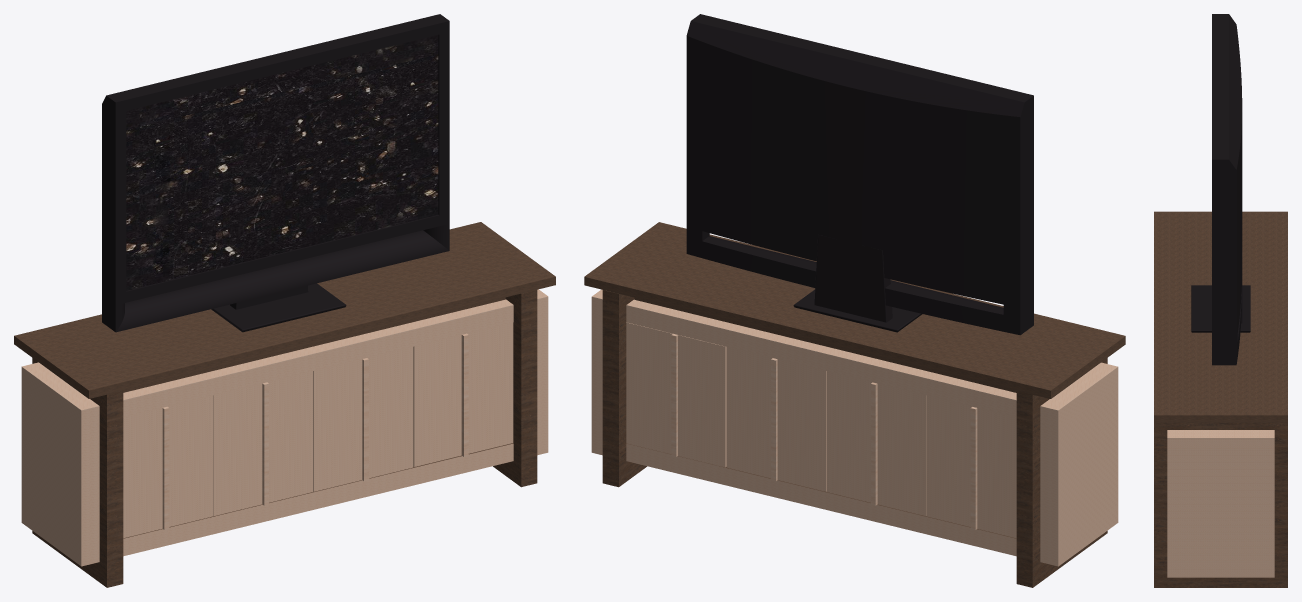
Rendered from entertainment stand.obj.
3 renders of one model, left to right at view 1: azimuth 30°, elevation 25°; view 2: azimuth 150°, elevation 25°; view 3: azimuth 270°, elevation 25°, orthographic. The views are drawn at different scales.
Parts seen in each view (by area): view 1: StandMiddle_HDTV_Entertainment_Center.001, Screen_HDTV_Entertainment_Center, StandOuter_HDTV_Entertainment_Center.002, TV_HDTV_Entertainment_Center.003; view 2: TV_HDTV_Entertainment_Center.003, StandMiddle_HDTV_Entertainment_Center.001, StandOuter_HDTV_Entertainment_Center.002; view 3: StandOuter_HDTV_Entertainment_Center.002, StandMiddle_HDTV_Entertainment_Center.001, TV_HDTV_Entertainment_Center.003.
Part boxes in pixels (box(x1,y1,x2,y2)): StandMiddle_HDTV_Entertainment_Center.001: box(21, 289, 548, 566); Screen_HDTV_Entertainment_Center: box(126, 35, 438, 290); StandOuter_HDTV_Entertainment_Center.002: box(14, 222, 555, 587); TV_HDTV_Entertainment_Center.003: box(102, 14, 449, 332); TV_HDTV_Entertainment_Center.003: box(686, 14, 1033, 335); StandMiddle_HDTV_Entertainment_Center.001: box(591, 289, 1118, 566); StandOuter_HDTV_Entertainment_Center.002: box(584, 222, 1125, 587); StandOuter_HDTV_Entertainment_Center.002: box(1154, 211, 1287, 587); StandMiddle_HDTV_Entertainment_Center.001: box(1167, 430, 1274, 577); TV_HDTV_Entertainment_Center.003: box(1191, 14, 1250, 365).
Bounding box in the file's own units: 72 × 66.59 × 20.
4 materials, 4 textured.
